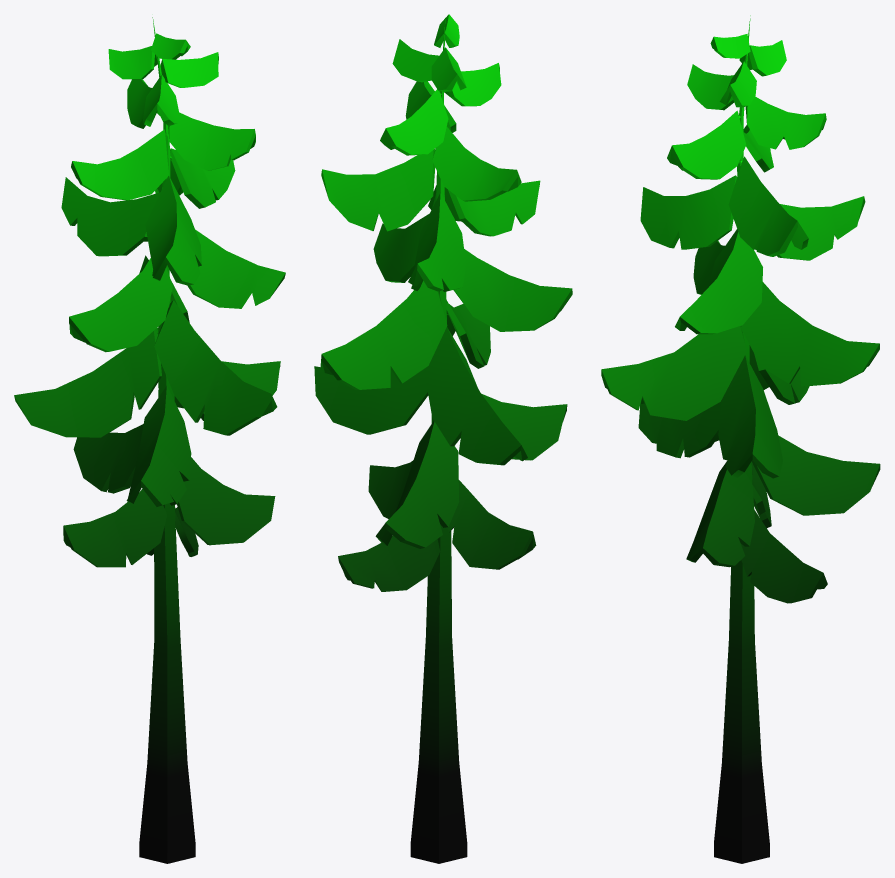
Rendered from SM_Tree_Pine_01.fbx.
The picture shows the model from 3 angles, left to right: view 1: azimuth 30°, elevation 25°; view 2: azimuth 150°, elevation 25°; view 3: azimuth 270°, elevation 25°; orthographic projection.
Parts seen in each view (by area): view 1: SM_Tree_Pine_01_LOD0; view 2: SM_Tree_Pine_01_LOD0; view 3: SM_Tree_Pine_01_LOD0.
Boxes of the visible parts, bbox=[...] form: SM_Tree_Pine_01_LOD0: bbox=[14, 17, 285, 863]; SM_Tree_Pine_01_LOD0: bbox=[314, 14, 572, 863]; SM_Tree_Pine_01_LOD0: bbox=[601, 15, 880, 863].
Bounding box in the file's own units: 300 × 1014 × 309.
